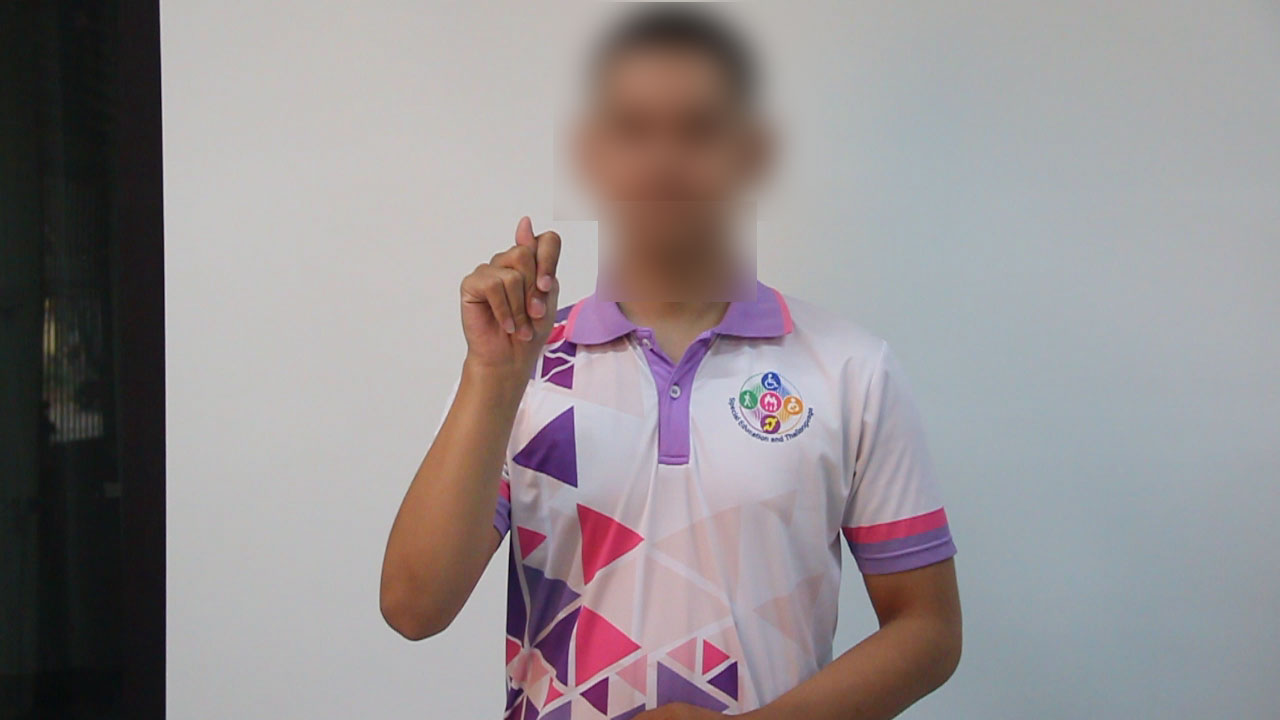tor: (449, 199, 573, 381)
